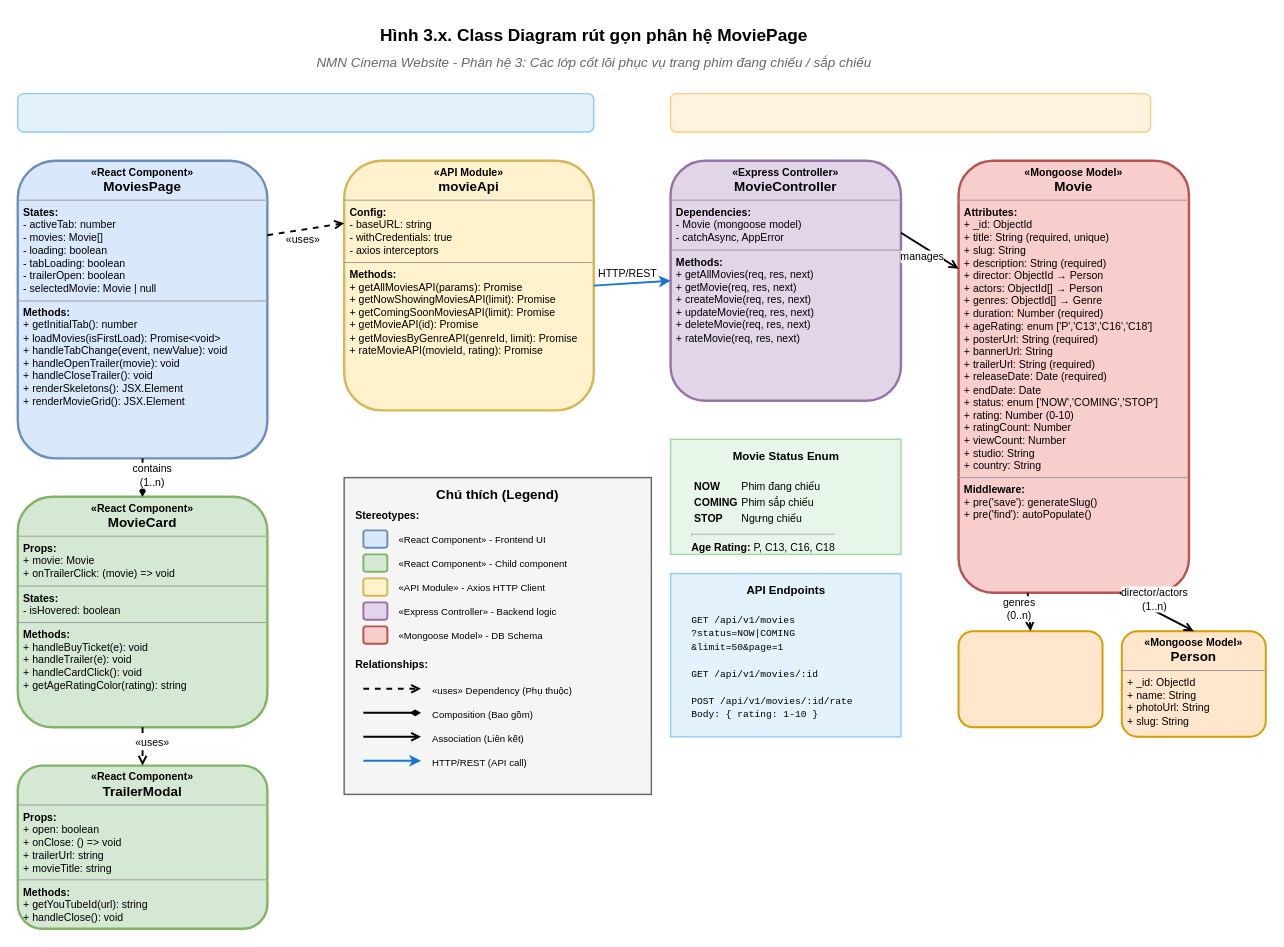
Image size: 1284x947. Some labels were removed from this diagram. Each missing label, with the box of its shape:
Backend Layer (Express Controllers & Mongoose Models): (669, 92, 1151, 132)
Frontend Layer (React Components & API Client): (17, 92, 594, 132)
«Mongoose Model» Genre + _id: ObjectId + name: String + slug: String: (957, 630, 1103, 728)
